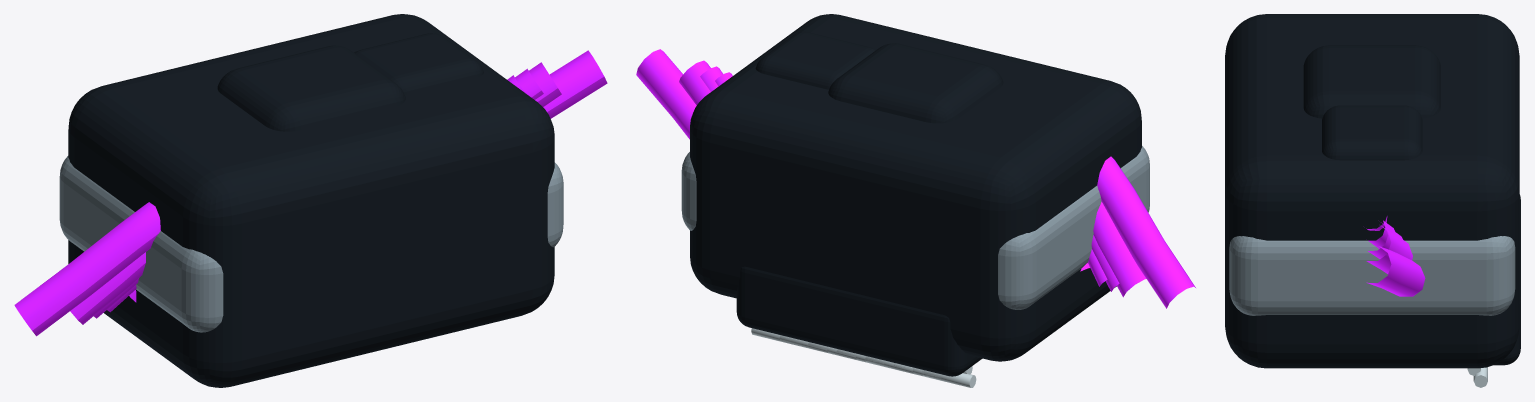
Rendered from electrical_30.glb.
The picture shows the model from 3 angles, left to right: view 1: azimuth 30°, elevation 25°; view 2: azimuth 150°, elevation 25°; view 3: azimuth 270°, elevation 25°; orthographic projection. The views are drawn at different scales.
Parts seen in each view (by area): view 1: asset_mesh__electrical_1403__reference_body, asset_mesh__electrical_1428__controller_case, asset_mesh__electrical_1427__sensor_body, asset_mesh__electrical_1421__current_path, asset_mesh__electrical_1427__connector, asset_mesh__electrical_1409__current_path, asset_mesh__electrical_1417__current_path; view 2: asset_mesh__electrical_1403__reference_body, asset_mesh__electrical_1428__connector_bank, asset_mesh__electrical_1427__sensor_body, asset_mesh__electrical_1428__controller_case, asset_mesh__electrical_1421__current_path, asset_mesh__electrical_1427__connector, asset_mesh__electrical_1409__current_path, asset_mesh__electrical_1417__current_path, asset_mesh__electrical_1428__pin_1; view 3: asset_mesh__electrical_1403__reference_body, asset_mesh__electrical_1428__controller_case, asset_mesh__electrical_1427__sensor_body, asset_mesh__electrical_1427__connector, asset_mesh__electrical_1421__current_path, asset_mesh__electrical_1409__current_path, asset_mesh__electrical_1428__connector_bank, asset_mesh__electrical_1417__current_path.
Boxes of the visible parts, bbox=[...] form: asset_mesh__electrical_1403__reference_body: bbox=[68, 14, 554, 387]; asset_mesh__electrical_1428__controller_case: bbox=[59, 156, 563, 332]; asset_mesh__electrical_1427__sensor_body: bbox=[217, 45, 405, 131]; asset_mesh__electrical_1421__current_path: bbox=[14, 50, 607, 336]; asset_mesh__electrical_1427__connector: bbox=[354, 33, 483, 95]; asset_mesh__electrical_1409__current_path: bbox=[70, 62, 561, 324]; asset_mesh__electrical_1417__current_path: bbox=[94, 68, 543, 318]; asset_mesh__electrical_1403__reference_body: bbox=[690, 14, 1141, 361]; asset_mesh__electrical_1428__connector_bank: bbox=[736, 266, 982, 376]; asset_mesh__electrical_1427__sensor_body: bbox=[828, 43, 1003, 123]; asset_mesh__electrical_1428__controller_case: bbox=[681, 146, 1149, 309]; asset_mesh__electrical_1421__current_path: bbox=[636, 49, 1195, 308]; asset_mesh__electrical_1427__connector: bbox=[755, 31, 875, 89]; asset_mesh__electrical_1409__current_path: bbox=[679, 60, 1146, 297]; asset_mesh__electrical_1417__current_path: bbox=[700, 66, 1119, 291]; asset_mesh__electrical_1428__pin_1: bbox=[922, 370, 976, 387]; asset_mesh__electrical_1403__reference_body: bbox=[1225, 14, 1519, 368]; asset_mesh__electrical_1428__controller_case: bbox=[1229, 236, 1515, 315]; asset_mesh__electrical_1427__sensor_body: bbox=[1303, 45, 1440, 118]; asset_mesh__electrical_1427__connector: bbox=[1322, 105, 1422, 160]; asset_mesh__electrical_1421__current_path: bbox=[1366, 246, 1425, 296]; asset_mesh__electrical_1409__current_path: bbox=[1366, 225, 1412, 273]; asset_mesh__electrical_1428__connector_bank: bbox=[1494, 194, 1520, 365]; asset_mesh__electrical_1417__current_path: bbox=[1368, 222, 1402, 258].
Size of the model in its own units: 1.73 by 0.7685 by 0.7764.
